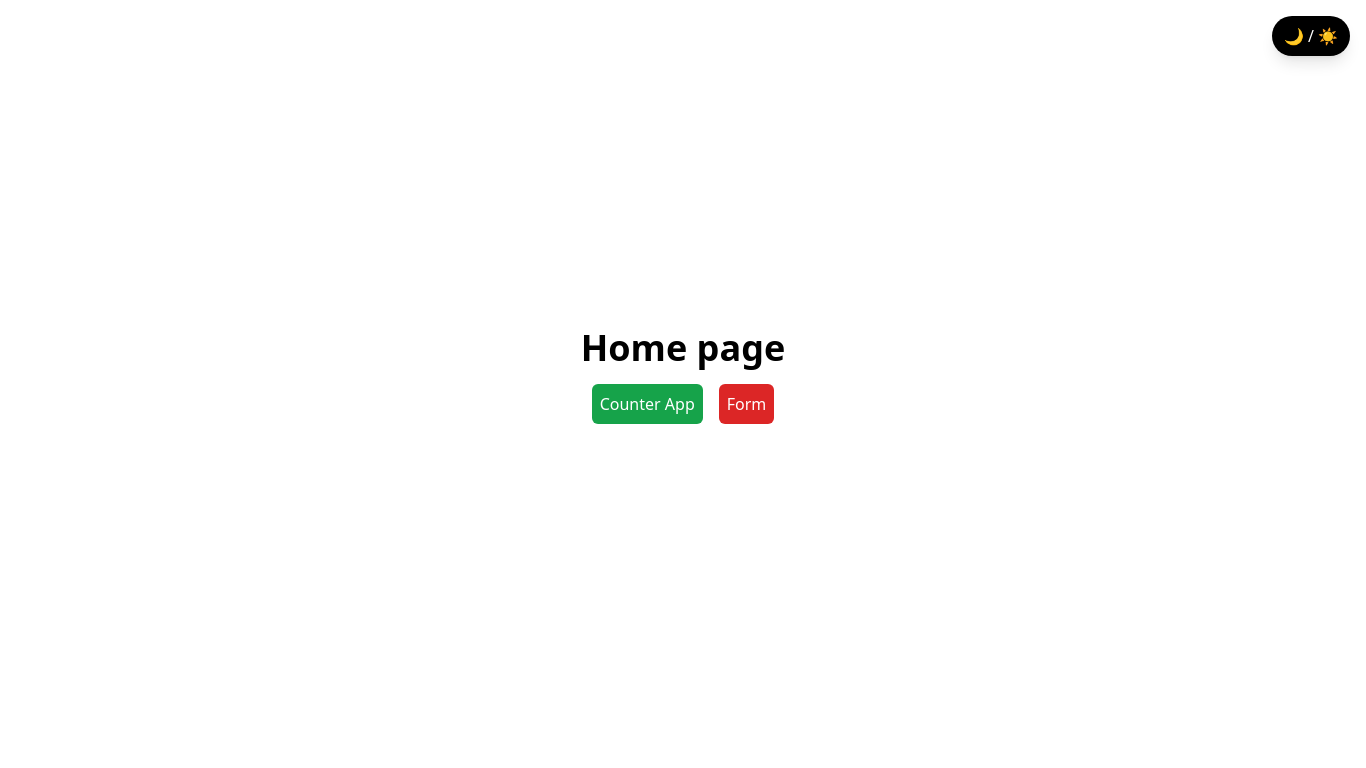
Scenario: Home Page › navigates to Form page
Click the button "Form": (747, 404) [719,384,775,424]
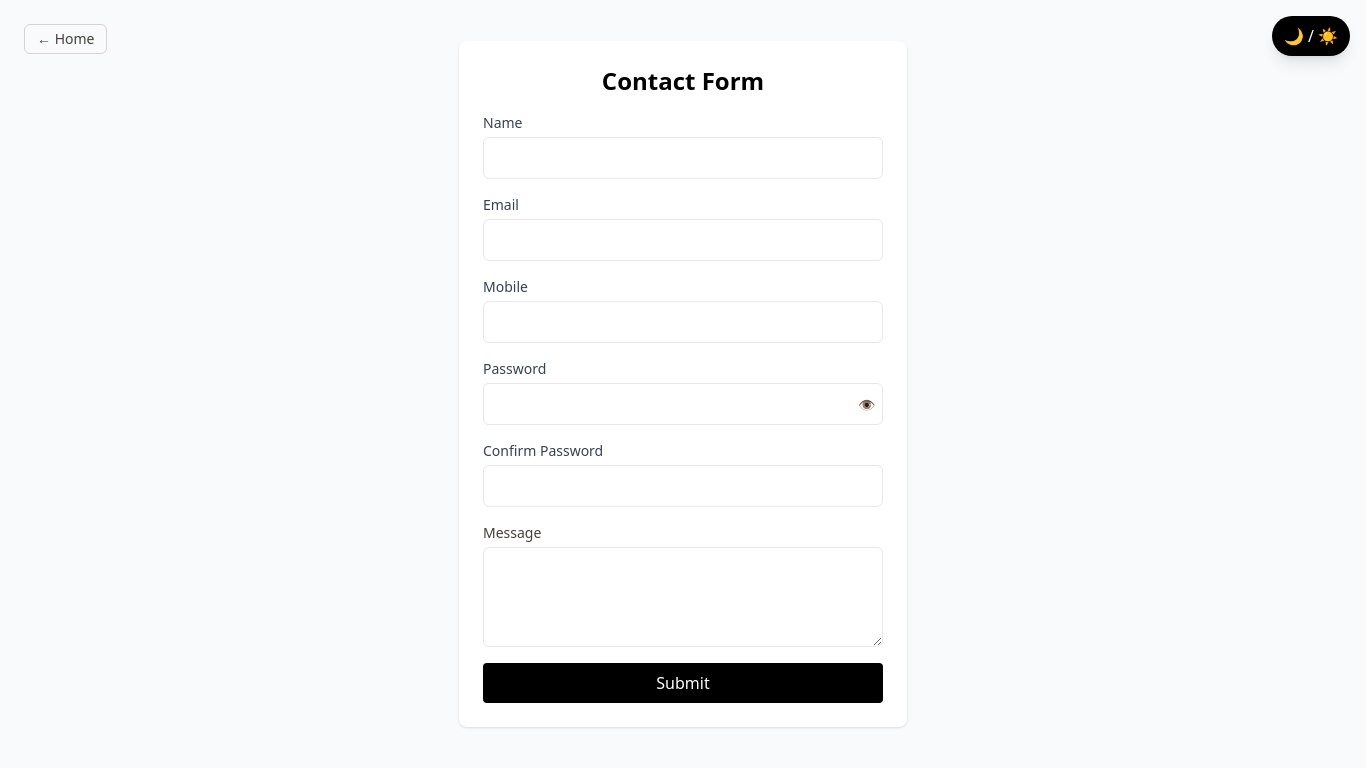
Check: the heading "Contact Form" is shown, box [602,64,764,97]
